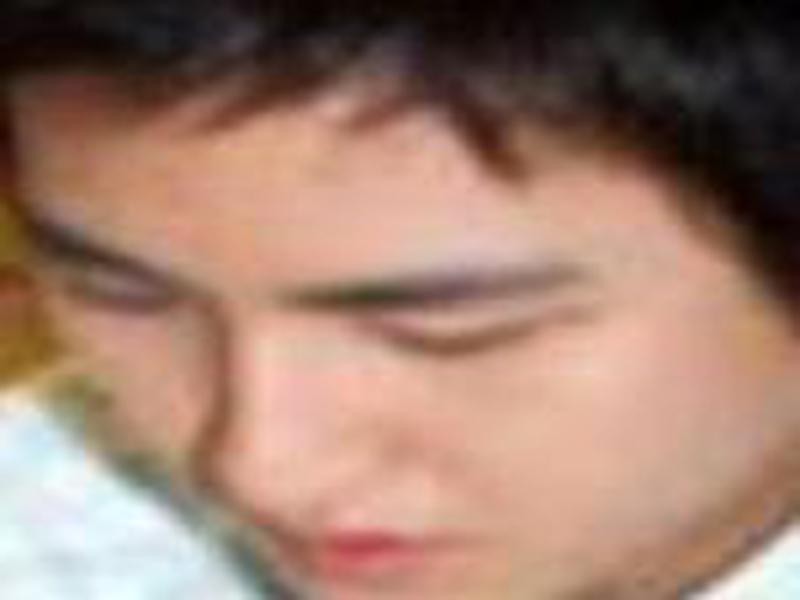without_mask: (8, 55, 800, 600)
